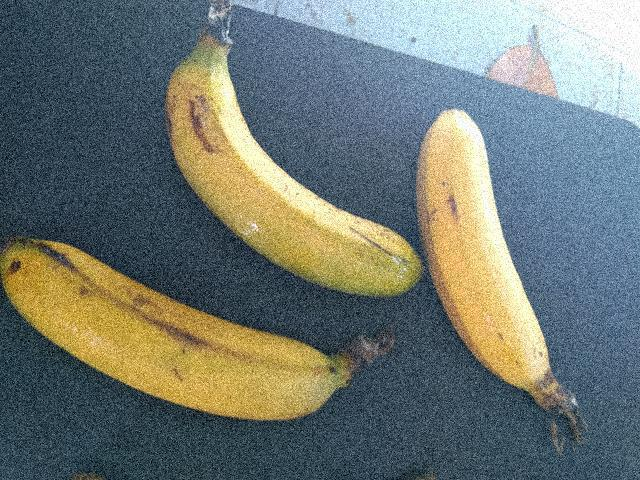freshripe: (411, 100, 574, 411)
ripe: (136, 30, 402, 298), (28, 208, 340, 424)
